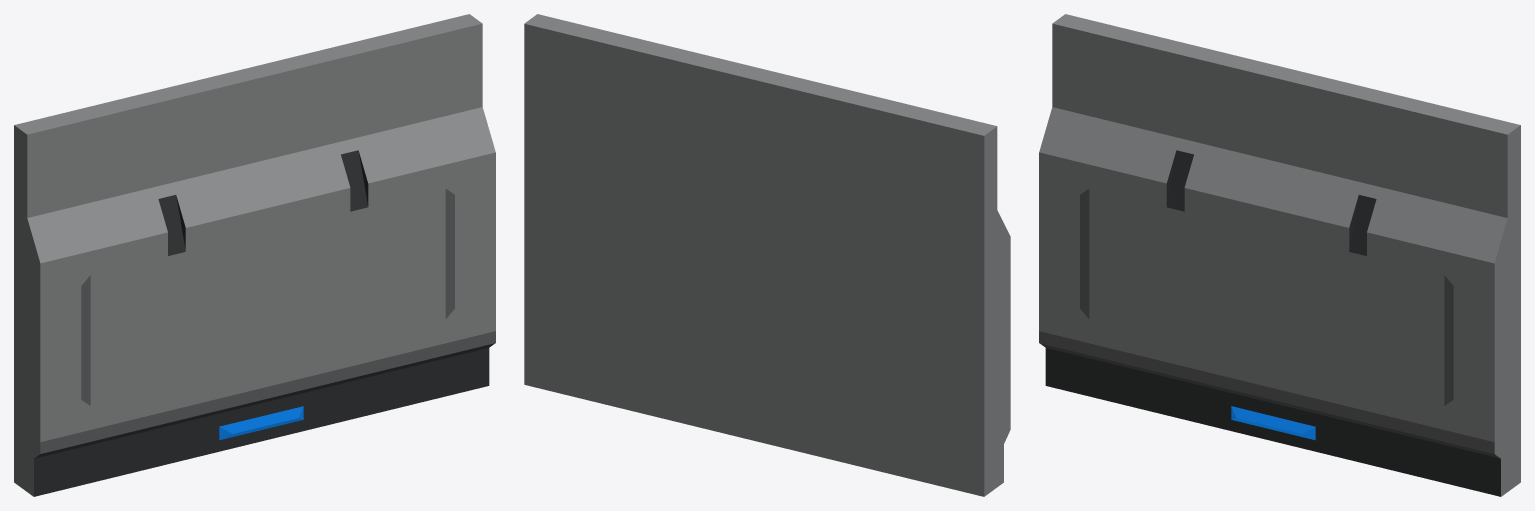
File: Wall_type_B_044.glb
The picture shows the model from 3 angles, left to right: view 1: azimuth 30°, elevation 25°; view 2: azimuth 150°, elevation 25°; view 3: azimuth 330°, elevation 25°; orthographic projection.
Parts seen in each view (by area): view 1: Wall_type_B_044; view 2: Wall_type_B_044; view 3: Wall_type_B_044.
Boxes of the visible parts, box(x1,y1,x2,y2) form: Wall_type_B_044: box(14, 14, 495, 496); Wall_type_B_044: box(524, 14, 1010, 496); Wall_type_B_044: box(1039, 14, 1520, 496).
Bounding box in the file's own units: 2 × 1.5 × 0.2.
2 materials, 2 textured.
